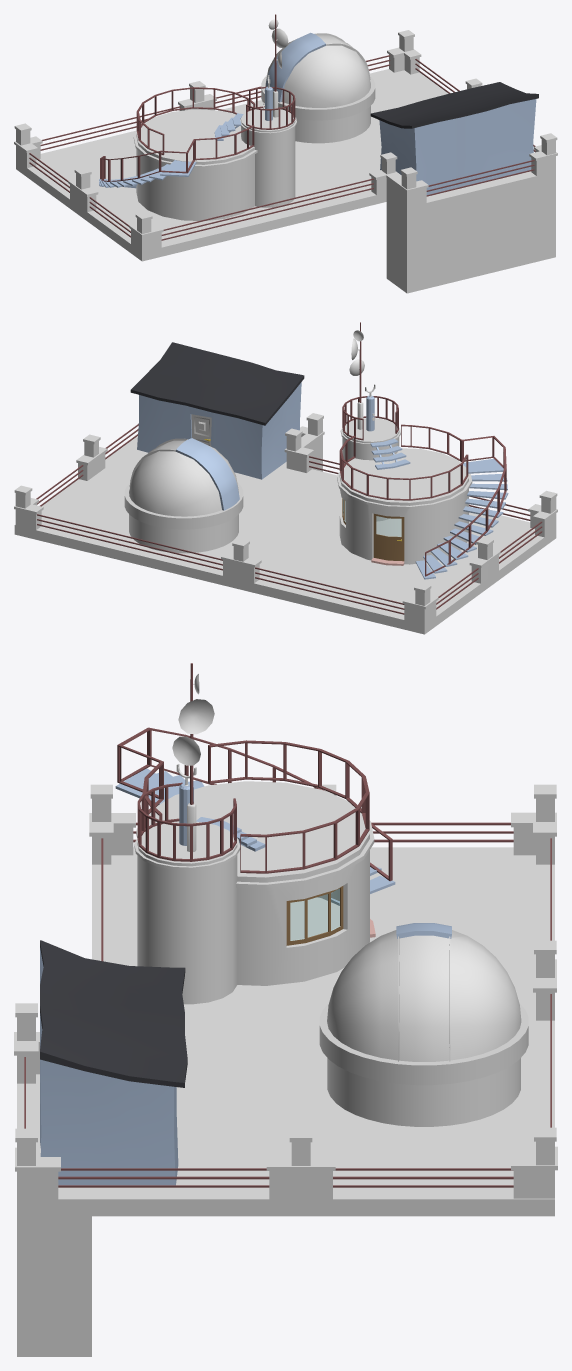
Rendered from Lomnicky_terraza_exterior_B.fbx.
The picture shows the model from 3 angles, top to bottom: view 1: azimuth 30°, elevation 25°; view 2: azimuth 150°, elevation 25°; view 3: azimuth 270°, elevation 25°; orthographic projection. The views are drawn at different scales.
Parts seen in each view (by area): view 1: Planta-3_azotea, Planta-3_azotea_cilindros, Planta-3_azotea_Caseta-pieza, Planta-3_azotea_Cupula, Planta-3_azotea_barandilla_circular, Planta-3_azotea_base-cupula, Planta-3_azotea_tapa_cupula, Planta-3_barandilla-N, Planta-3_barandilla-S, Planta-3_terraza_Escalera-curva.001, Planta-3_azotea_barandilla_cilindro_chico, parabólicas (+3 smaller); view 2: Planta-3_azotea, Planta-3_azotea_Caseta-pieza, Planta-3_azotea_cilindros, Planta-3_azotea_Cupula, Planta-3_terraza_Escalera-curva.001, Planta-3_azotea_barandilla_circular, Planta-3_azotea_base-cupula, Planta-3_barandilla-S, Planta-3_azotea_tapa_cupula, Planta-3_azotea_barandilla_cilindro_chico, parabólicas, Planta-3_azotea_escalerilla (+3 smaller); view 3: Planta-3_azotea, Planta-3_azotea_cilindros, Planta-3_azotea_Caseta-pieza, Planta-3_azotea_Cupula, Planta-3_azotea_base-cupula, Planta-3_azotea_barandilla_circular, Planta-3_barandilla-W, Planta-3_azotea_barandilla_cilindro_chico, parabólicas, Planta-3_barandilla-E, Planta-3_terraza_Escalera-curva.001.
Boxes of the visible parts, <box> form: Planta-3_azotea: <box>14,30,557,293</box>; Planta-3_azotea_cilindros: <box>133,108,296,220</box>; Planta-3_azotea_Caseta-pieza: <box>370,82,538,194</box>; Planta-3_azotea_Cupula: <box>261,33,375,120</box>; Planta-3_azotea_barandilla_circular: <box>100,87,255,181</box>; Planta-3_azotea_base-cupula: <box>295,106,370,143</box>; Planta-3_azotea_tapa_cupula: <box>264,32,325,102</box>; Planta-3_barandilla-N: <box>161,178,373,240</box>; Planta-3_barandilla-S: <box>40,55,390,150</box>; Planta-3_terraza_Escalera-curva.001: <box>99,160,196,188</box>; Planta-3_azotea_barandilla_cilindro_chico: <box>246,86,295,129</box>; parabólicas: <box>268,14,288,117</box>; Planta-3_azotea: <box>14,413,557,634</box>; Planta-3_azotea_Caseta-pieza: <box>130,342,304,479</box>; Planta-3_azotea_cilindros: <box>337,418,472,565</box>; Planta-3_azotea_Cupula: <box>124,438,243,529</box>; Planta-3_terraza_Escalera-curva.001: <box>415,458,508,579</box>; Planta-3_azotea_barandilla_circular: <box>339,424,506,576</box>; Planta-3_azotea_base-cupula: <box>129,514,238,553</box>; Planta-3_barandilla-S: <box>37,514,404,614</box>; Planta-3_azotea_tapa_cupula: <box>176,438,239,510</box>; Planta-3_azotea_barandilla_cilindro_chico: <box>342,396,398,440</box>; parabólicas: <box>349,322,364,429</box>; Planta-3_azotea_escalerilla: <box>370,438,410,469</box>; Planta-3_azotea: <box>14,784,557,1356</box>; Planta-3_azotea_cilindros: <box>134,781,375,1004</box>; Planta-3_azotea_Caseta-pieza: <box>40,940,187,1185</box>; Planta-3_azotea_Cupula: <box>319,930,528,1085</box>; Planta-3_azotea_base-cupula: <box>327,1058,520,1126</box>; Planta-3_azotea_barandilla_circular: <box>117,727,392,881</box>; Planta-3_barandilla-W: <box>58,1168,513,1187</box>; Planta-3_azotea_barandilla_cilindro_chico: <box>137,782,236,861</box>; parabólicas: <box>172,663,214,851</box>; Planta-3_barandilla-E: <box>133,822,513,842</box>; Planta-3_terraza_Escalera-curva.001: <box>115,768,395,905</box>.
Bounding box in the file's own units: 2281 × 1455 × 1479.
